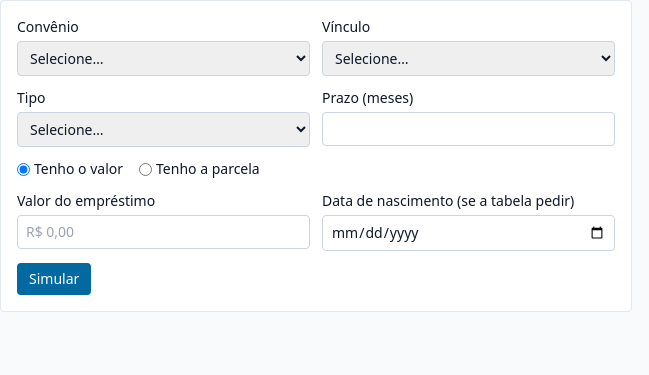
it: SimuladorForm › mostra "Nenhuma tabela vigente atende esta simulação."
Select "Governo do Acre" in the dropdown labelled "Convênio" at (164, 58), box [17,41,310,76]
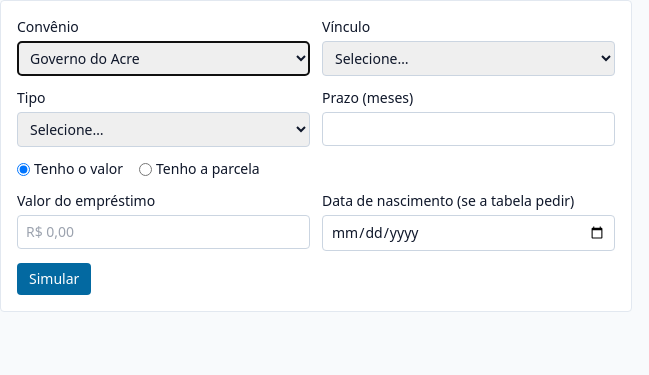
Select "Efetivo" in the dropdown labelled "Vínculo" at (468, 58), box [322,41,615,76]
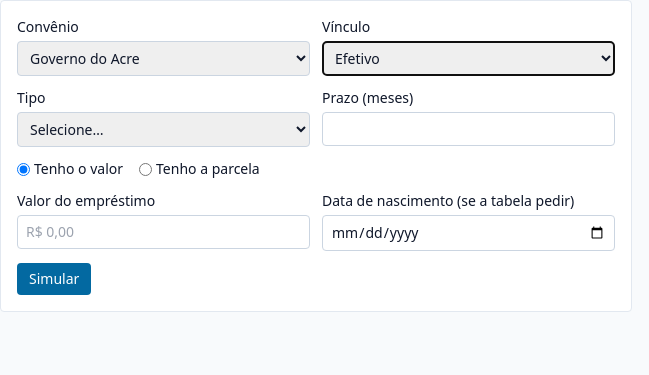
Select "Novo" in the dropdown labelled "Tipo" at (164, 130), box [17,112,310,147]
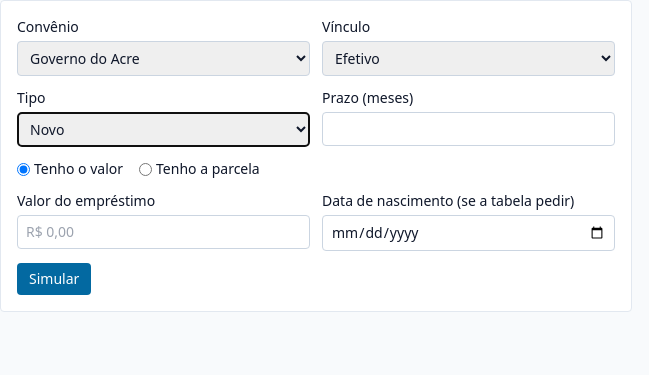
Type "24" into the field labelled "Prazo (meses)" at (468, 129), box [322,112,615,146]
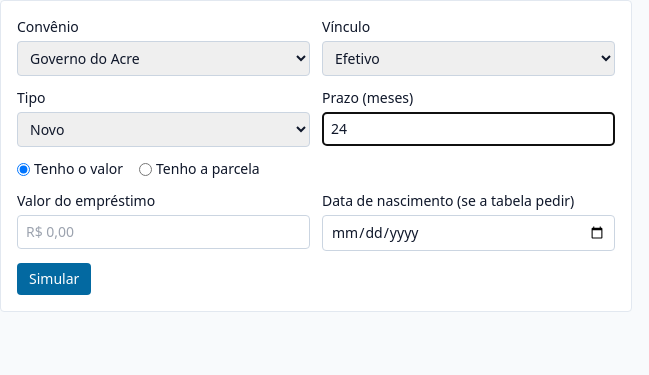
Type "50.000,00" into the field labelled "Valor do empréstimo" at (164, 232), box [17,215,310,249]
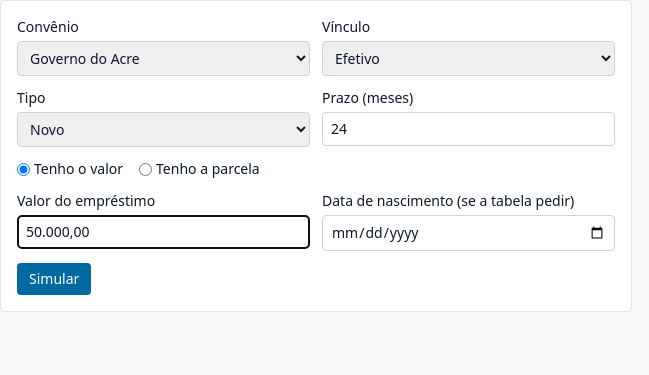
Click the button "Simular" at (54, 279), box [17,263,91,295]
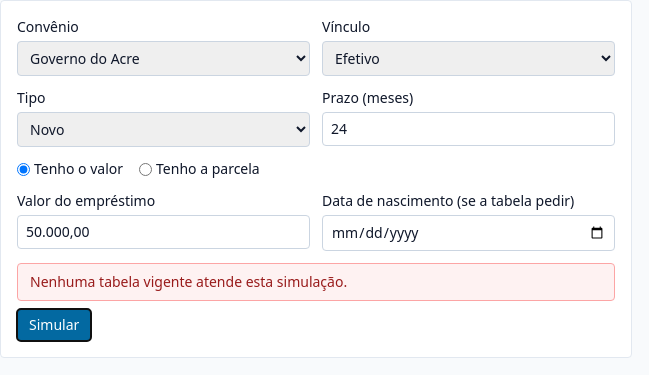
Expected: the message reads "Nenhuma tabela vigente atende esta simulação.", [30,272,347,291]
